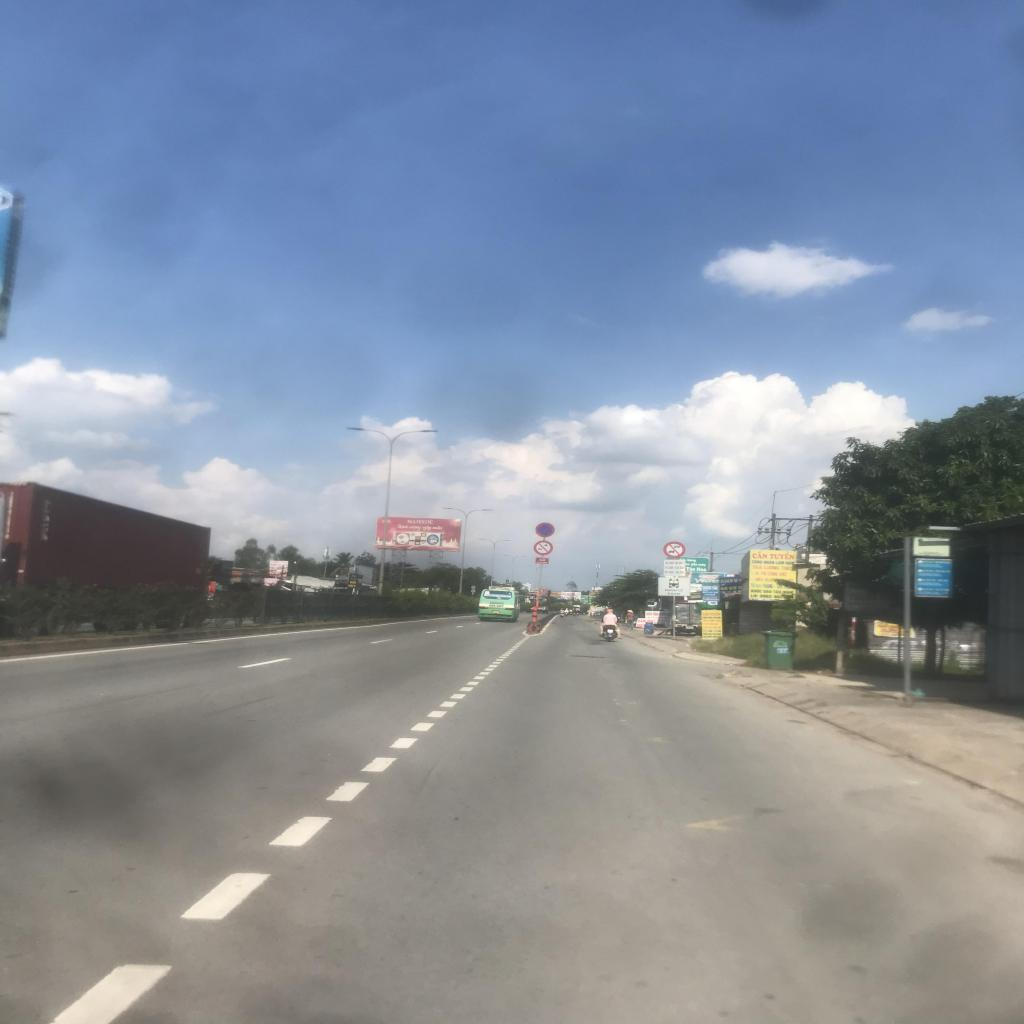cam_dung_xe_va_do_xe: (535, 523, 555, 537)
cam_o_to_tai_va_xe_khach: (664, 541, 686, 558)
cam_xe_2_banh_va_xe_3_banh_co_dong_co: (533, 541, 553, 555)
khac: (658, 577, 690, 596), (664, 560, 686, 575)
